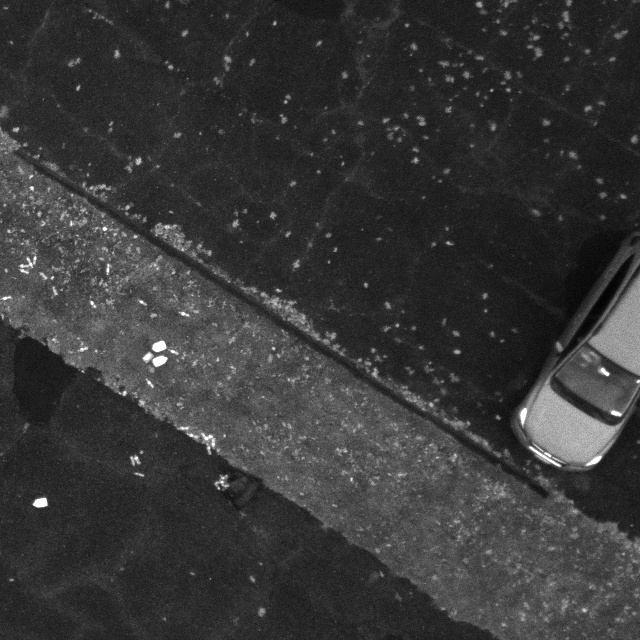bottle: (165, 346, 180, 357), (176, 308, 192, 318), (144, 376, 155, 390), (50, 282, 59, 299), (75, 344, 90, 354), (131, 452, 141, 465), (88, 297, 98, 310), (185, 432, 199, 441), (136, 298, 149, 307), (175, 425, 190, 432), (205, 443, 213, 456), (133, 470, 144, 478), (201, 431, 208, 442), (106, 262, 111, 277), (205, 433, 213, 442), (211, 437, 217, 449), (130, 454, 135, 467)
can: (151, 353, 169, 369), (151, 339, 168, 353)
container: (142, 350, 154, 365)
